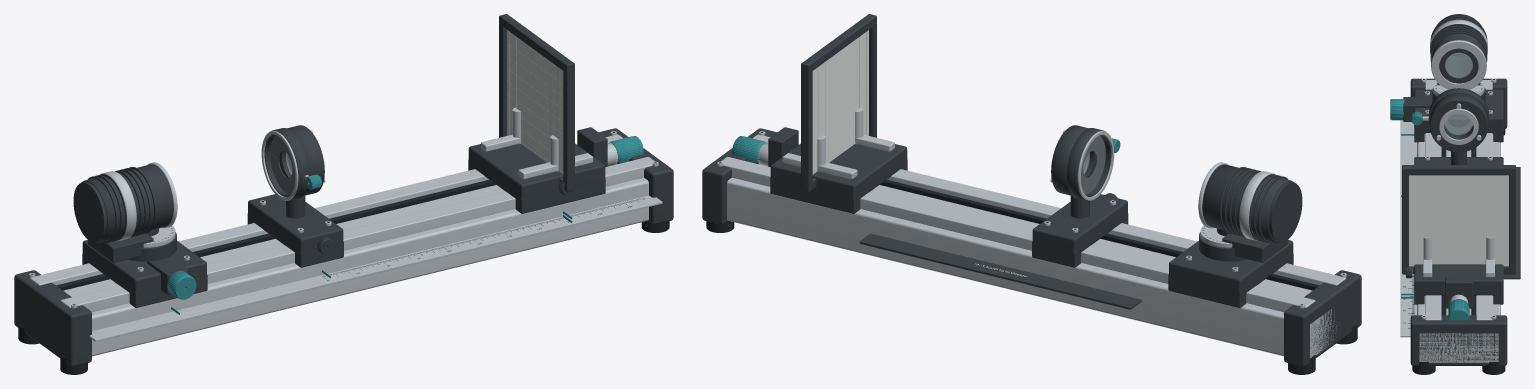
The model's file is aberration-bench.glb.
The picture shows the model from 3 angles, left to right: view 1: azimuth 30°, elevation 25°; view 2: azimuth 150°, elevation 25°; view 3: azimuth 270°, elevation 25°; orthographic projection. The views are drawn at different scales.
Parts seen in each view (by area): view 1: PrecisionRail_Satin machined aluminium, FieldSource_Graphite anodized aluminium, Optic_Graphite anodized aluminium, PrecisionRail_Graphite anodized aluminium, ScreenMicroBase_Graphite anodized aluminium, ScreenSurface, SourcePedestal_Graphite anodized aluminium, ScreenCarrier_Graphite anodized aluminium, PrecisionRail_Engraved dark marks, ScreenMicroBase_Satin machined aluminium, FieldSource_Satin machined aluminium, PrecisionRail_Soft black elastomer (+5 smaller); view 2: PrecisionRail_Satin machined aluminium, PrecisionRail_Graphite anodized aluminium, Optic_Graphite anodized aluminium, FieldSource_Graphite anodized aluminium, ScreenMicroBase_Graphite anodized aluminium, ScreenSurface, SourcePedestal_Graphite anodized aluminium, ScreenCarrier_Graphite anodized aluminium, PrecisionRail_Engraved dark marks, ScreenMicroBase_Satin machined aluminium, FieldSource_Satin machined aluminium, PrecisionRail_Soft black elastomer (+3 smaller); view 3: ScreenSurface, PrecisionRail_Satin machined aluminium, PrecisionRail_Graphite anodized aluminium, Optic_Graphite anodized aluminium, ScreenMicroBase_Graphite anodized aluminium, ScreenCarrier_Graphite anodized aluminium, FieldSource_Graphite anodized aluminium, SourcePedestal_Graphite anodized aluminium, FieldSource_Satin machined aluminium, Optic_Satin machined aluminium, SourceGlass, PrecisionRail_Soft black elastomer (+10 smaller).
Boxes of the visible parts, x1=… form: PrecisionRail_Satin machined aluminium: x1=29, y1=131, x2=662, y2=356; FieldSource_Graphite anodized aluminium: x1=73, y1=164, x2=173, y2=262; Optic_Graphite anodized aluminium: x1=247, y1=125, x2=343, y2=267; PrecisionRail_Graphite anodized aluminium: x1=14, y1=128, x2=673, y2=366; ScreenMicroBase_Graphite anodized aluminium: x1=468, y1=127, x2=607, y2=213; ScreenSurface: x1=507, y1=30, x2=563, y2=174; SourcePedestal_Graphite anodized aluminium: x1=82, y1=228, x2=207, y2=307; ScreenCarrier_Graphite anodized aluminium: x1=499, y1=14, x2=574, y2=192; PrecisionRail_Engraved dark marks: x1=31, y1=131, x2=656, y2=305; ScreenMicroBase_Satin machined aluminium: x1=481, y1=134, x2=617, y2=179; FieldSource_Satin machined aluminium: x1=99, y1=162, x2=177, y2=241; PrecisionRail_Soft black elastomer: x1=18, y1=221, x2=669, y2=374; PrecisionRail_Satin machined aluminium: x1=717, y1=131, x2=1346, y2=358; PrecisionRail_Graphite anodized aluminium: x1=702, y1=128, x2=1361, y2=366; Optic_Graphite anodized aluminium: x1=1032, y1=125, x2=1128, y2=267; FieldSource_Graphite anodized aluminium: x1=1202, y1=164, x2=1302, y2=262; ScreenMicroBase_Graphite anodized aluminium: x1=768, y1=127, x2=907, y2=213; ScreenSurface: x1=812, y1=30, x2=868, y2=174; SourcePedestal_Graphite anodized aluminium: x1=1168, y1=228, x2=1293, y2=307; ScreenCarrier_Graphite anodized aluminium: x1=801, y1=14, x2=876, y2=192; PrecisionRail_Engraved dark marks: x1=719, y1=131, x2=1344, y2=305; ScreenMicroBase_Satin machined aluminium: x1=758, y1=134, x2=894, y2=179; FieldSource_Satin machined aluminium: x1=1198, y1=162, x2=1276, y2=241; PrecisionRail_Soft black elastomer: x1=706, y1=221, x2=1357, y2=374; ScreenSurface: x1=1409, y1=175, x2=1508, y2=266; PrecisionRail_Satin machined aluminium: x1=1400, y1=78, x2=1500, y2=362; PrecisionRail_Graphite anodized aluminium: x1=1410, y1=78, x2=1520, y2=365; Optic_Graphite anodized aluminium: x1=1414, y1=88, x2=1503, y2=164; ScreenMicroBase_Graphite anodized aluminium: x1=1414, y1=264, x2=1503, y2=308; ScreenCarrier_Graphite anodized aluminium: x1=1402, y1=165, x2=1515, y2=274; FieldSource_Graphite anodized aluminium: x1=1430, y1=14, x2=1487, y2=85; SourcePedestal_Graphite anodized aluminium: x1=1414, y1=88, x2=1503, y2=142; FieldSource_Satin machined aluminium: x1=1430, y1=19, x2=1487, y2=89; Optic_Satin machined aluminium: x1=1425, y1=88, x2=1492, y2=160; SourceGlass: x1=1445, y1=52, x2=1472, y2=78; PrecisionRail_Soft black elastomer: x1=1412, y1=129, x2=1505, y2=374.
Size of the model in its own units: 0.502 by 0.1555 by 0.112.
